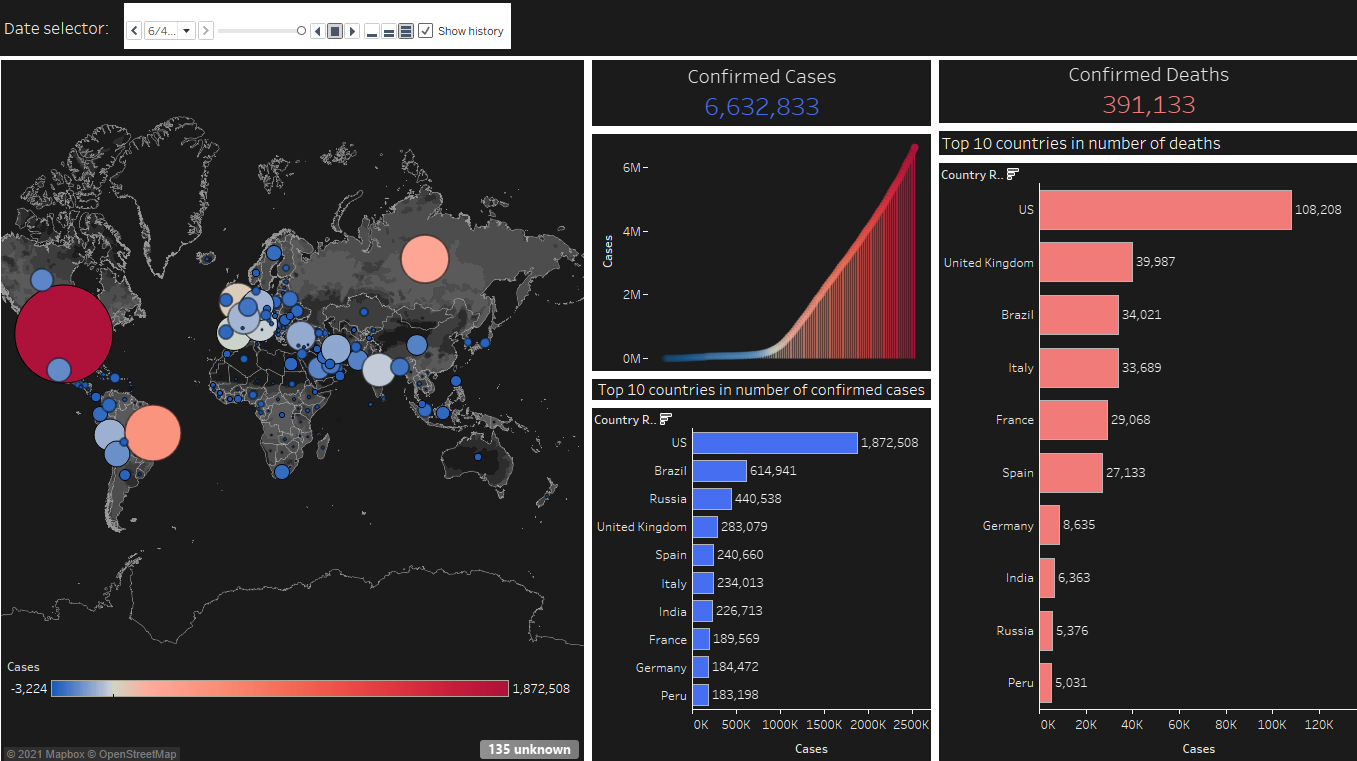

This screenshot's page, from the dashboard's own definition file:
{"tool":"tableau","page":{"name":"Dashboard 1","canvas":[1366,768],"ordinal":0},"visuals":[{"type":"text","box":[0,0,1366,56]},{"type":"currpage","title":"COnfiurmed Deaths","box":[127,3,387,46]},{"type":"worksheet","title":"Virus Spread Map","mark":"Automatic","box":[0,56,591,712]},{"type":"worksheet","title":"Confirmed Cases Ban","mark":"Automatic","box":[591,56,347,74]},{"type":"worksheet","title":"COnfiurmed Deaths","mark":"Automatic","box":[938,56,428,71.4]},{"type":"text","box":[938,127.4,428,31.8]},{"type":"worksheet","title":"Confirmed Cases","mark":"Automatic","rows":["Cases","Cases"],"cols":["Date"],"box":[591,130,347,245]},{"type":"worksheet","title":"Bar Chart Deaths","mark":"Automatic","rows":["Country_Region"],"cols":["Cases"],"box":[938,159.2,428,608.8]},{"type":"text","box":[591,375,347,29]},{"type":"worksheet","title":"Bar Chart","mark":"Automatic","rows":["Country_Region"],"cols":["Cases"],"box":[591,404,347,363.9]},{"type":"legend","title":"Virus Spread Map","param":"[federated.08v5txb0h5jz1k18yebmr07jzlit].[sum:Cases:qk]","box":[10,658,568,76]}]}

Visuals, with their boxes in screenshot pixels (x1, y1, x2, y2):
text: l=0, t=0, r=1356, b=53
"COnfiurmed Deaths" currpage: l=114, t=0, r=506, b=46
"Virus Spread Map" worksheet: l=0, t=53, r=584, b=760
"Confirmed Cases Ban" worksheet: l=584, t=53, r=935, b=128
"COnfiurmed Deaths" worksheet: l=935, t=53, r=1356, b=125
text: l=935, t=125, r=1356, b=157
"Confirmed Cases" worksheet: l=584, t=128, r=935, b=376
"Bar Chart Deaths" worksheet: l=935, t=157, r=1356, b=760
text: l=584, t=376, r=935, b=405
"Bar Chart" worksheet: l=584, t=405, r=935, b=760
"Virus Spread Map" legend: l=0, t=662, r=570, b=739
